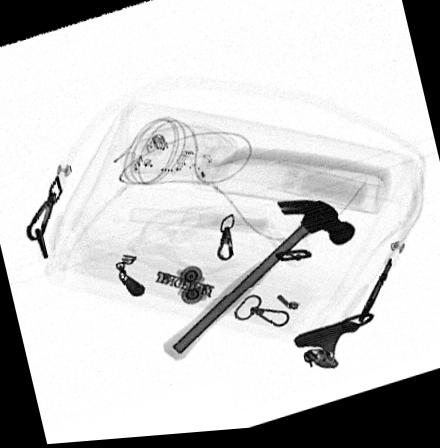Hammer: (160, 204, 355, 363)
